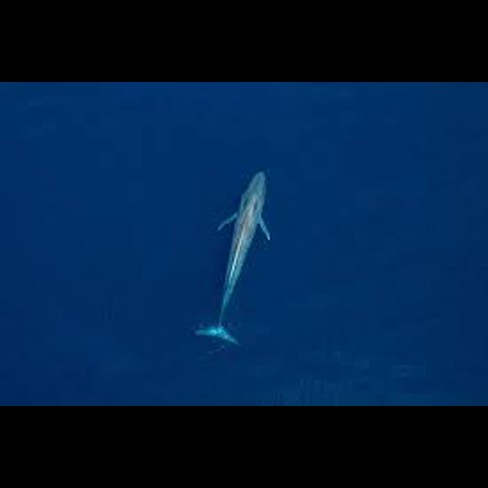bluewhale: (188, 166, 273, 351)
